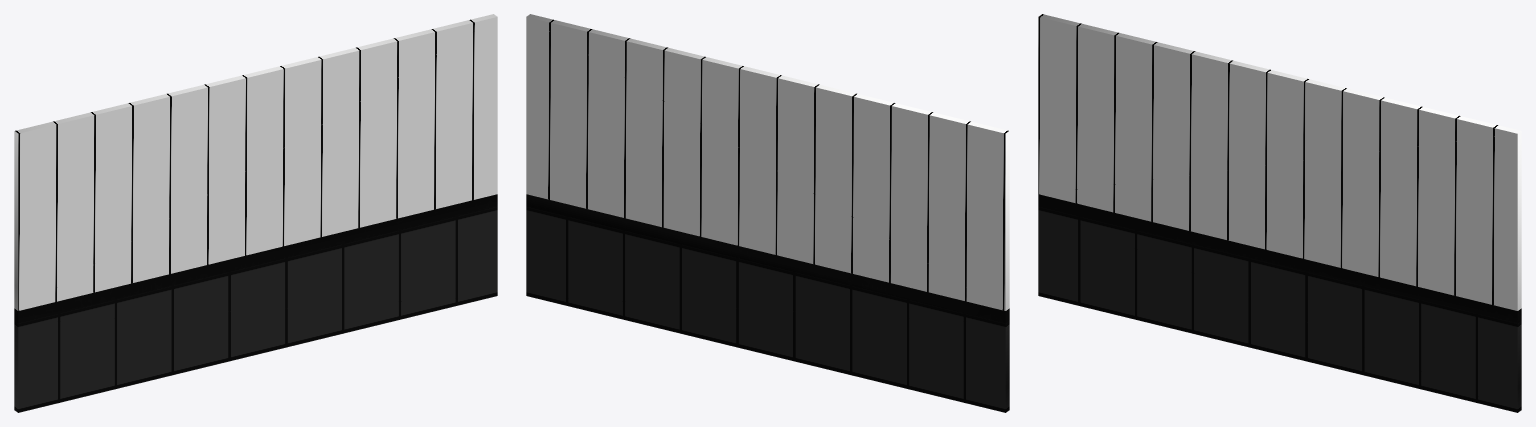
File: InteriorWall01_Art.fbx
3 renders of one model, left to right at view 1: azimuth 30°, elevation 25°; view 2: azimuth 150°, elevation 25°; view 3: azimuth 330°, elevation 25°, orthographic.
Visible parts, largest first — view 1: InteriorWall_Art; view 2: InteriorWall_Art; view 3: InteriorWall_Art.
Part boxes in pixels (bbox=[...]): InteriorWall_Art: bbox=[14, 14, 497, 412]; InteriorWall_Art: bbox=[526, 14, 1009, 412]; InteriorWall_Art: bbox=[1038, 14, 1521, 412].
Size of the model in its own units: 10.7 by 5.95 by 0.15.
